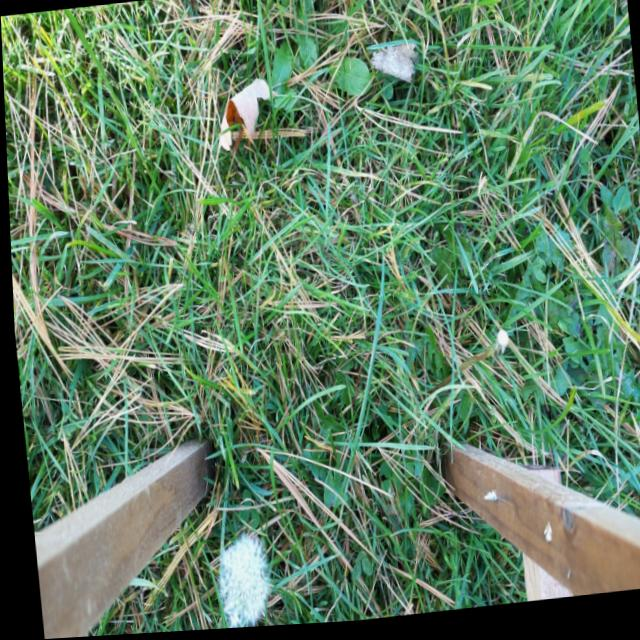flower: (213, 539, 265, 624)
